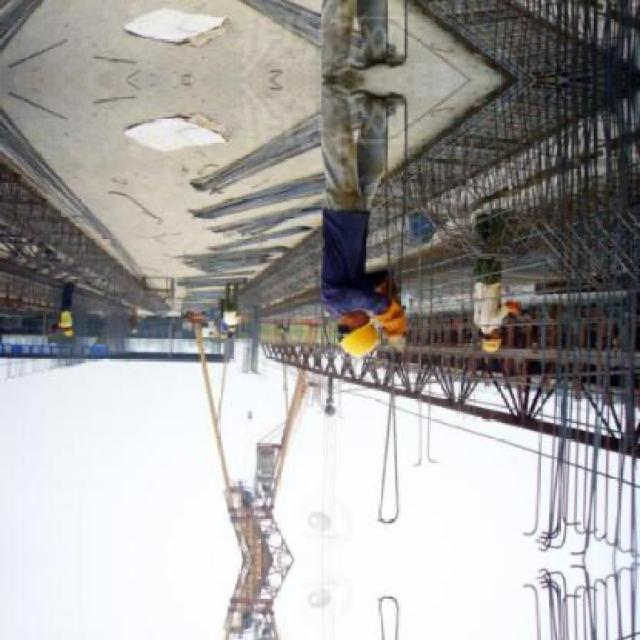con casco: (328, 304, 378, 366), (483, 328, 512, 358)
